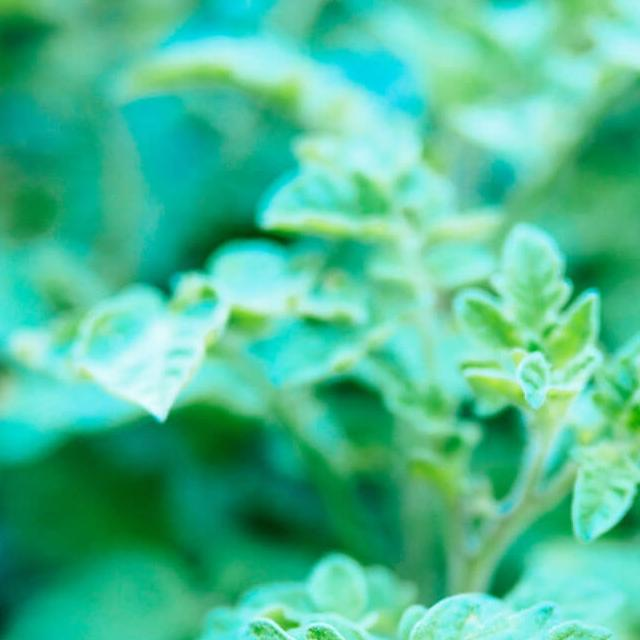Tomato leaf: (102, 581, 394, 640), (392, 591, 640, 640)
